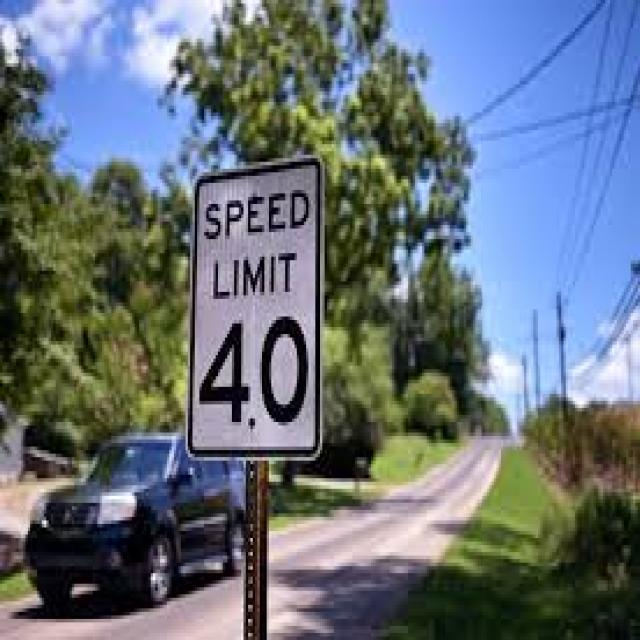speedLimit40: (193, 153, 321, 452)
